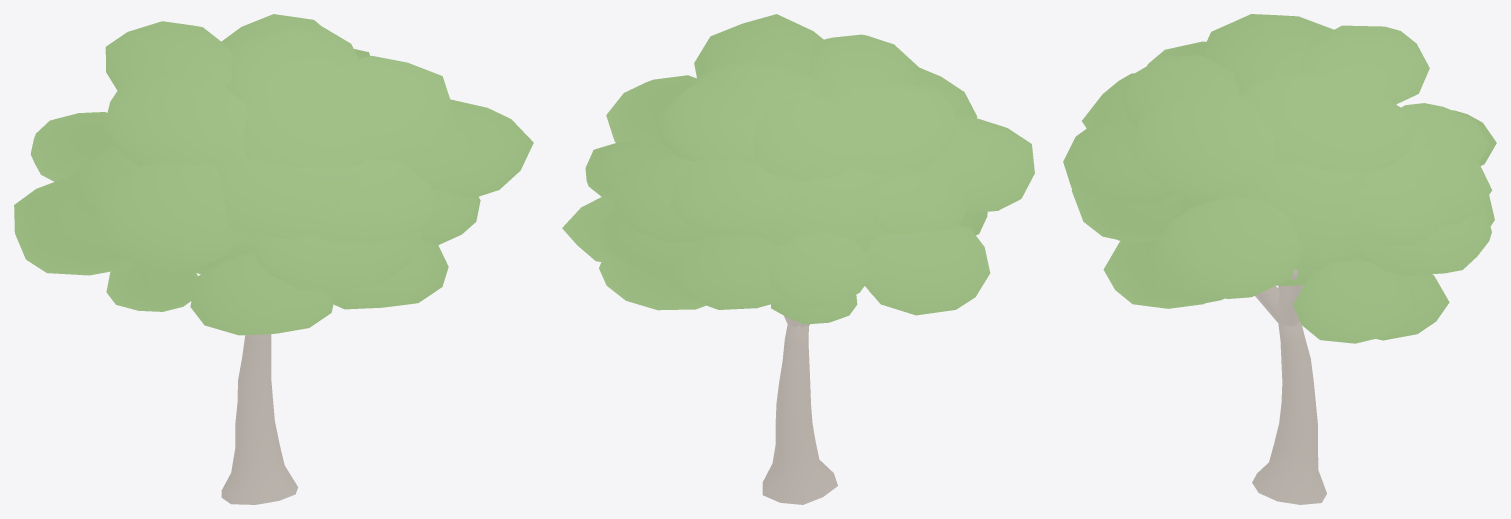
Rendered from Blender_LakeBlackOak_1.glb.
3 views of the same model, side by side, from view 1: azimuth 30°, elevation 25°; view 2: azimuth 150°, elevation 25°; view 3: azimuth 270°, elevation 25° (orthographic). The views are drawn at different scales.
Parts seen in each view (by area): view 1: Blender_LakeBlackOak_1; view 2: Blender_LakeBlackOak_1; view 3: Blender_LakeBlackOak_1.
Boxes of the visible parts, <box> form: Blender_LakeBlackOak_1: <box>14,14,533,504</box>; Blender_LakeBlackOak_1: <box>562,14,1034,504</box>; Blender_LakeBlackOak_1: <box>1063,14,1496,504</box>.
Bounding box in the file's own units: 17.09 × 16.53 × 14.92.
